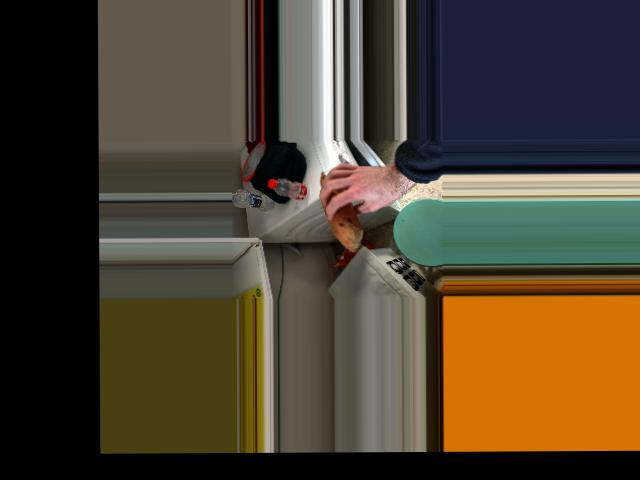sweet_potato: (320, 169, 356, 245)
